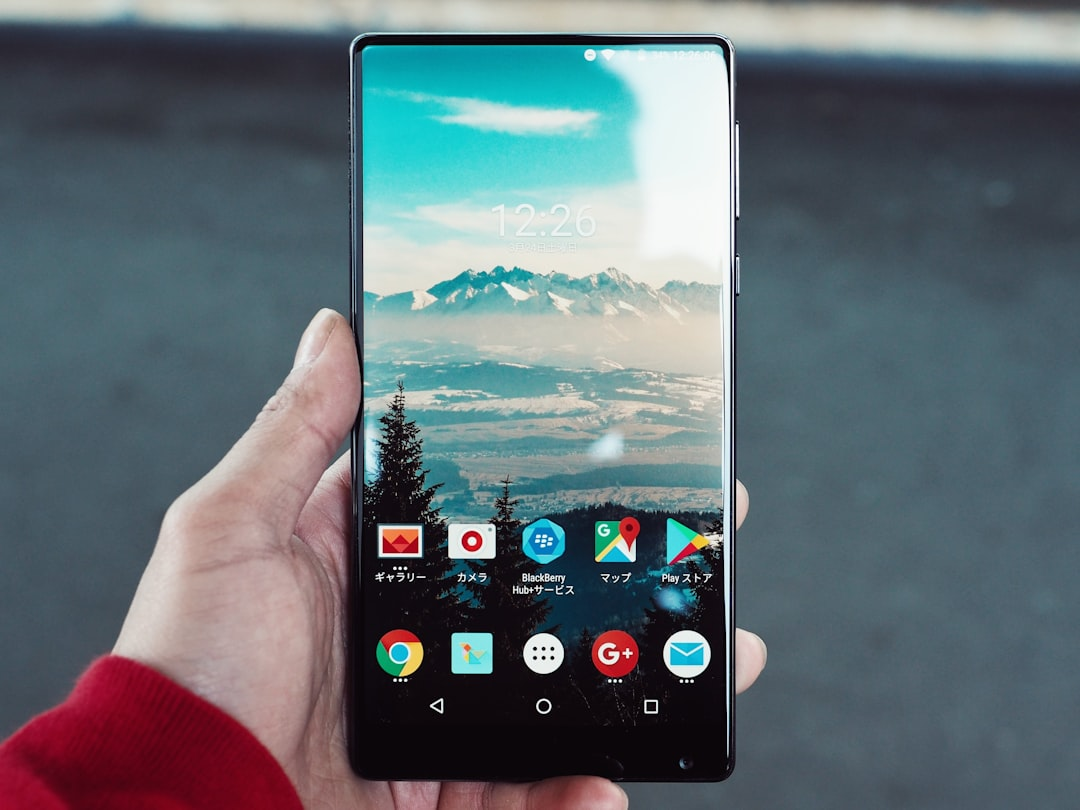phone: (347, 31, 733, 780)
